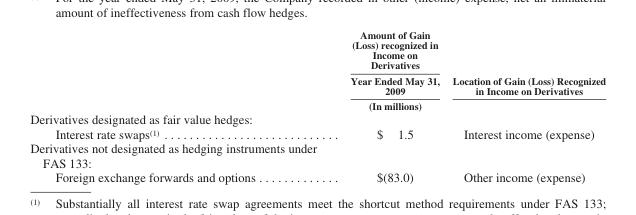table: (29, 28, 605, 184)
table column: (29, 28, 302, 184), (445, 28, 605, 184), (302, 28, 445, 184)
table column header: (29, 28, 605, 111)
table projected row header: (29, 140, 605, 169), (29, 111, 605, 126)
table row: (29, 28, 605, 111), (29, 140, 605, 169), (29, 111, 605, 126), (29, 169, 605, 184), (29, 126, 605, 140)
